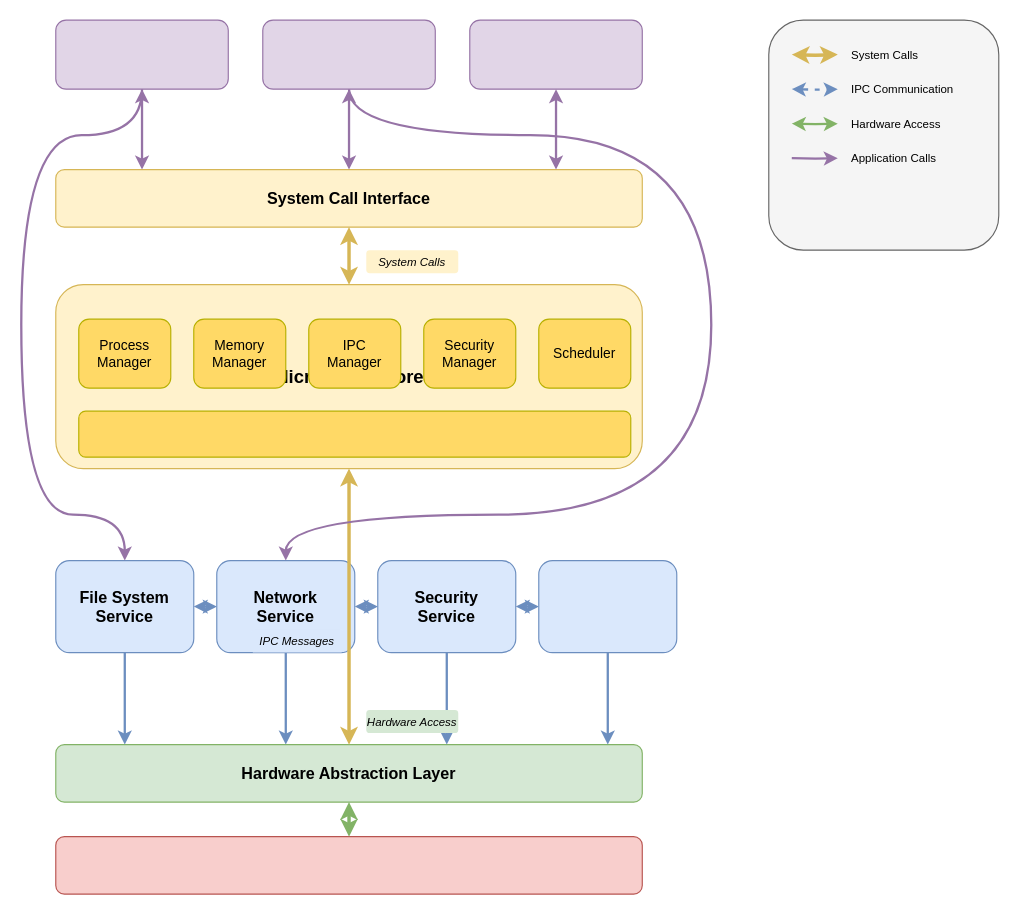
Image size: 1019x914. Some labels were removed from this diagram. The box of each missing label's shape, as (x1, y1, x2, y2) in pixels:
Component Interaction Legend: (768, 19, 999, 250)
Container Runtime: (469, 19, 642, 89)
Device Drivers: (78, 410, 631, 457)
Device Service: (538, 559, 677, 653)
Physical Hardware: (55, 835, 642, 894)
System Service: (262, 19, 435, 89)
User Application: (55, 19, 228, 89)
